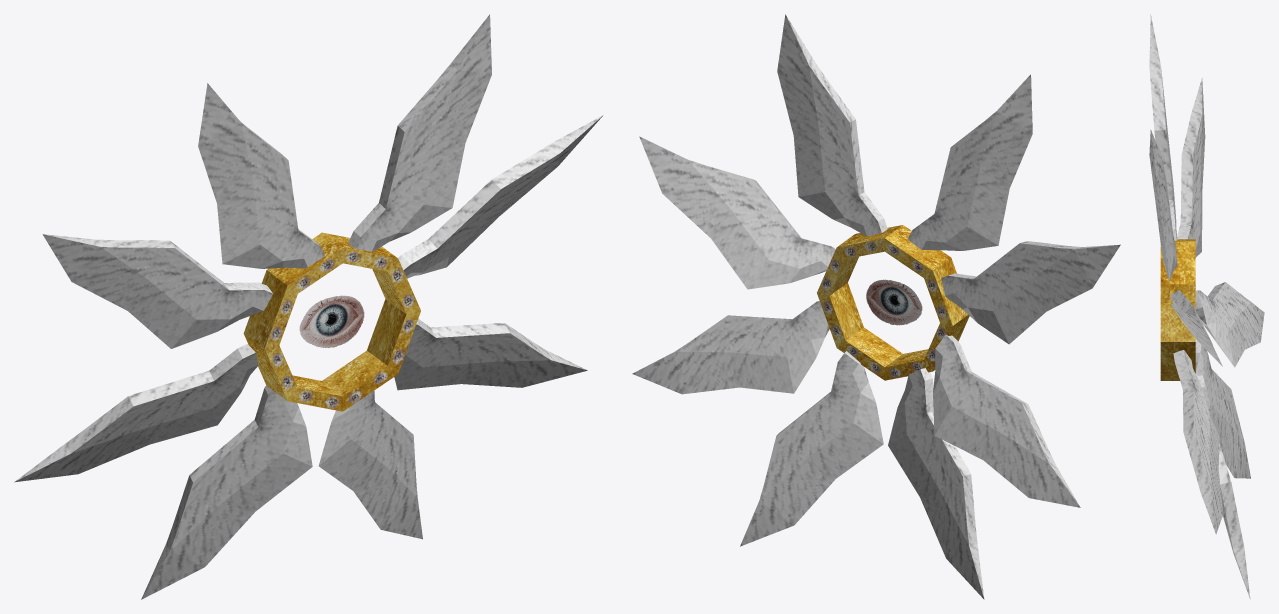
File: Seraphim.fbx
3 views of the same model, side by side, from view 1: azimuth 30°, elevation 25°; view 2: azimuth 150°, elevation 25°; view 3: azimuth 270°, elevation 25° (orthographic). The views are drawn at different scales.
Parts seen in each view (by area): view 1: Wing, Wing.001, Wing.006, Ring, Wing.002, Wing.003, Wing.004, Wing.007, Wing.005, Eye; view 2: Wing.005, Wing.004, Wing.006, Wing.003, Wing.007, Wing.002, Wing.001, Ring, Wing, Eye; view 3: Wing.007, Ring, Wing.003, Wing.001, Wing, Wing.002, Wing.006, Wing.004, Wing.005.
Part boxes in pixels (box(x1,y1,x2,y2)): Wing: box(141, 385, 312, 599); Wing.001: box(42, 234, 272, 348); Wing.006: box(348, 14, 491, 251); Ring: box(243, 232, 420, 411); Wing.002: box(198, 83, 324, 268); Wing.003: box(14, 343, 258, 482); Wing.004: box(318, 390, 422, 539); Wing.007: box(394, 319, 587, 390); Wing.005: box(398, 115, 603, 278); Eye: box(299, 295, 364, 348); Wing.005: box(639, 136, 835, 289); Wing.004: box(740, 351, 883, 546); Wing.006: box(777, 14, 887, 236); Wing.003: box(933, 334, 1080, 507); Wing.007: box(632, 301, 829, 394); Wing.002: box(907, 74, 1032, 250); Wing.001: box(941, 241, 1120, 344); Ring: box(817, 225, 969, 380); Wing: box(888, 368, 984, 599); Eye: box(866, 279, 922, 325); Wing.007: box(1173, 350, 1223, 534); Ring: box(1160, 239, 1195, 380); Wing.003: box(1195, 282, 1264, 367); Wing.001: box(1177, 78, 1205, 257); Wing: box(1195, 339, 1250, 478); Wing.002: box(1149, 14, 1177, 240); Wing.006: box(1149, 129, 1177, 281); Wing.004: box(1197, 375, 1250, 598); Wing.005: box(1170, 289, 1222, 366).
Bounding box in the file's own units: 917 × 196 × 891.
Materials: 3 (3 with a texture image).
